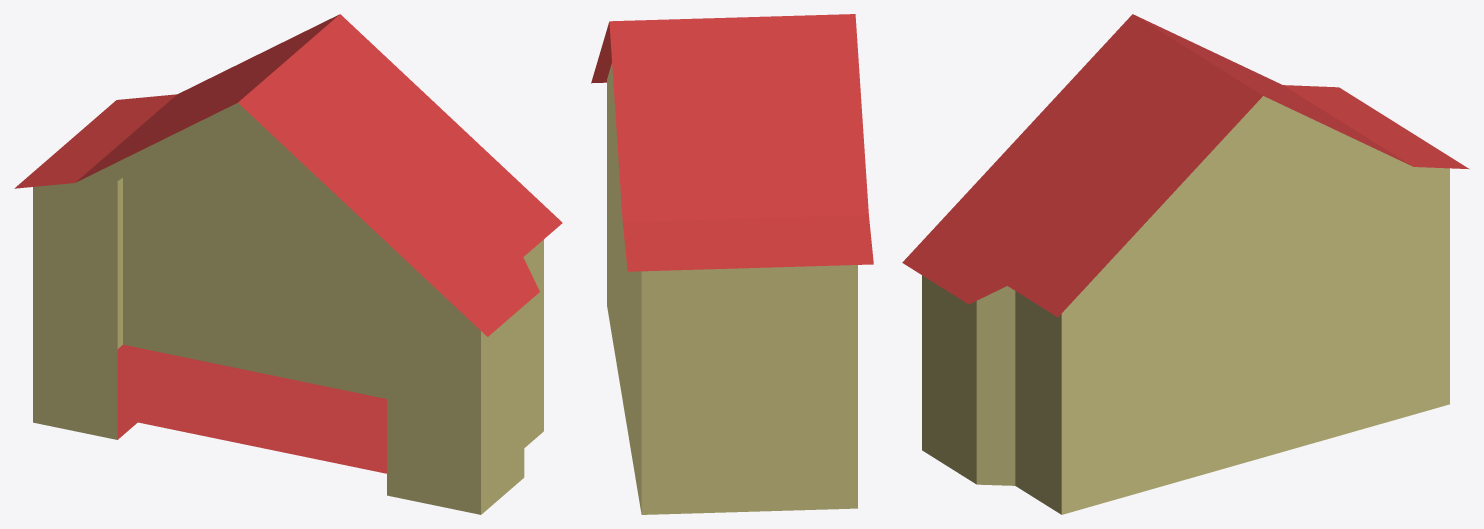
3 renders of one model, left to right at view 1: azimuth 30°, elevation 25°; view 2: azimuth 150°, elevation 25°; view 3: azimuth 270°, elevation 25°, orthographic. The views are drawn at different scales.
Size of the model in its own units: 16.6 by 19.99 by 14.33.
